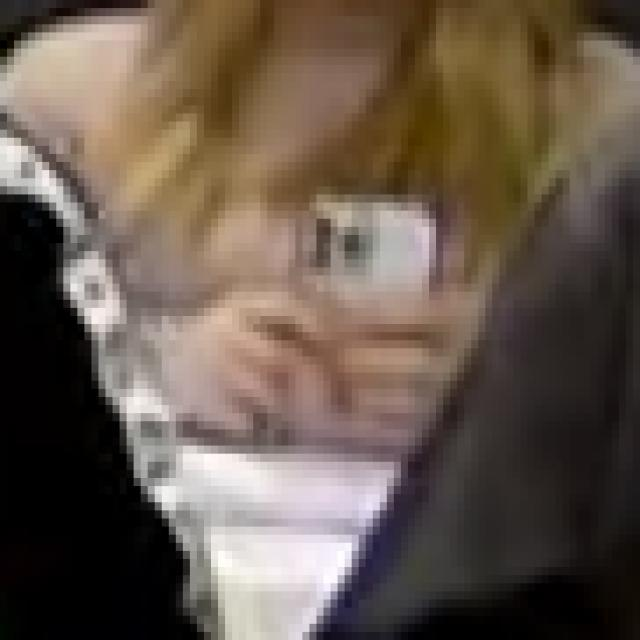phone: (294, 184, 444, 474)
